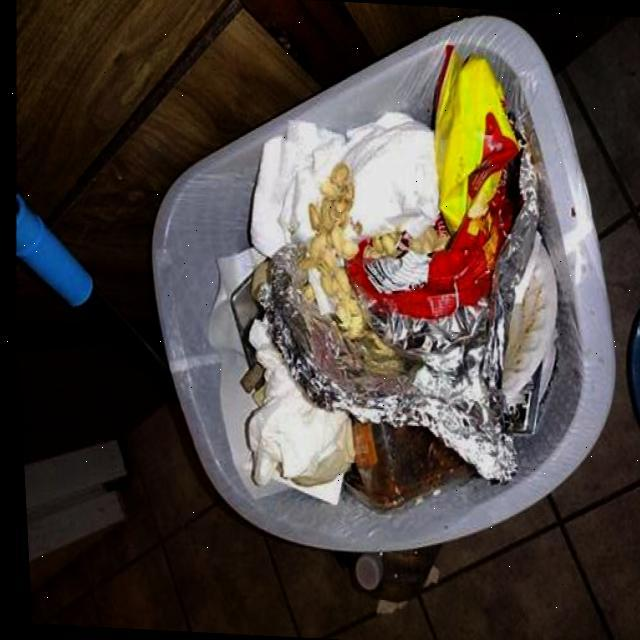Aluminium_foil: (263, 153, 535, 481)
Garbage: (205, 46, 553, 509)
Plastic_Bag: (342, 45, 520, 321)
